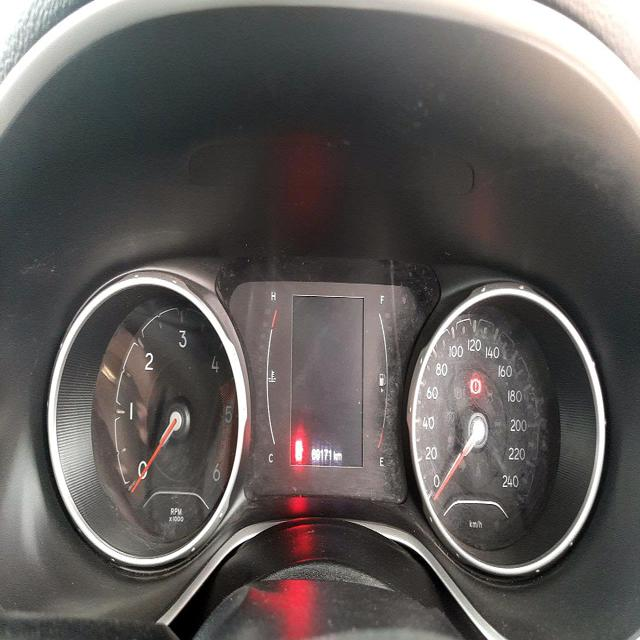odometer: (311, 443, 332, 464)
